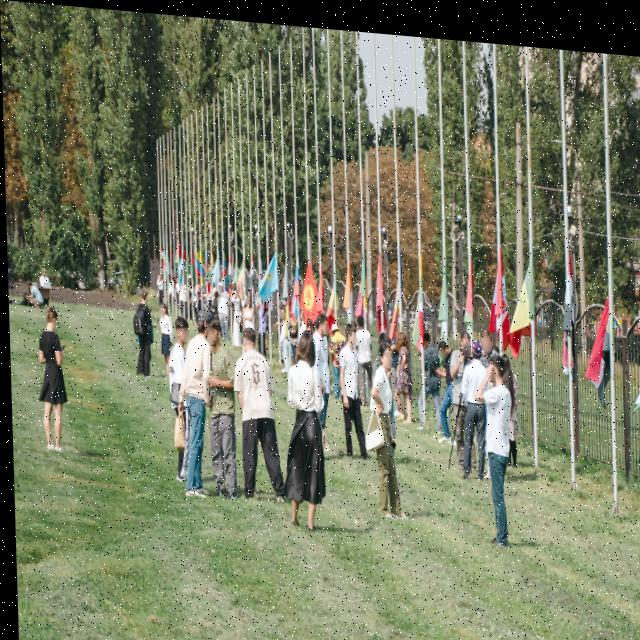Person: (281, 323, 327, 536), (174, 297, 217, 502), (233, 322, 277, 500), (480, 344, 512, 543), (159, 312, 194, 490), (30, 303, 69, 461), (371, 334, 403, 516), (206, 310, 236, 504), (334, 316, 365, 459), (307, 302, 334, 457), (461, 331, 485, 477), (432, 330, 461, 435), (417, 322, 442, 435), (352, 306, 376, 412), (390, 323, 414, 422), (132, 285, 156, 374), (156, 297, 172, 369), (275, 296, 290, 371), (212, 277, 230, 338), (228, 284, 244, 345), (239, 288, 256, 335), (24, 281, 44, 312), (374, 323, 395, 346), (153, 270, 166, 307), (481, 320, 493, 352), (183, 271, 196, 298), (173, 271, 184, 297)
